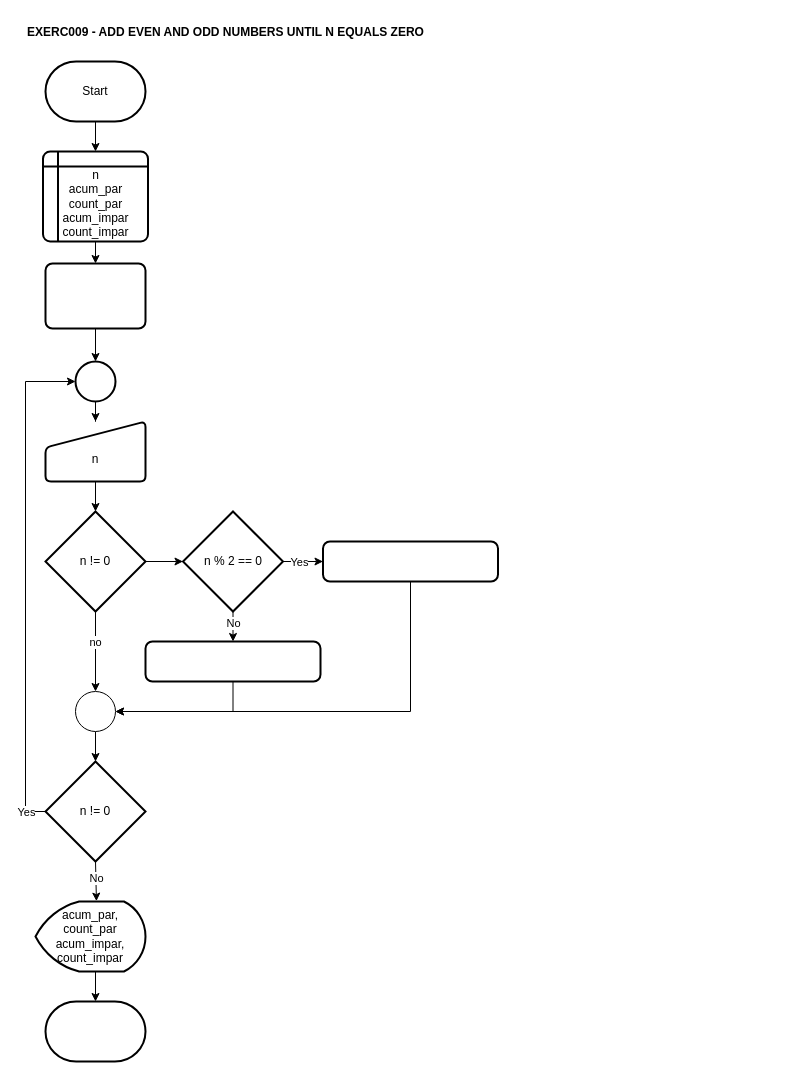
The diagram is 803 pixels wide and 1079 high, and some of its shapes have lost their labels. The shapes that lost their labels are listed below. From the top down, each one's centre as x and y in pixels, then its label:
At (x=95, y=295): "acum_par = 0 count_par = 0 acum_impar = 0 count_impar = 0".
At (x=410, y=561): "count_par = count_par + 1 acum_par = acum_par + n".
At (x=232, y=661): "count_impar = count_impar + 1 acum_impar = acum_impar + n".
At (x=95, y=1031): "Stop".
